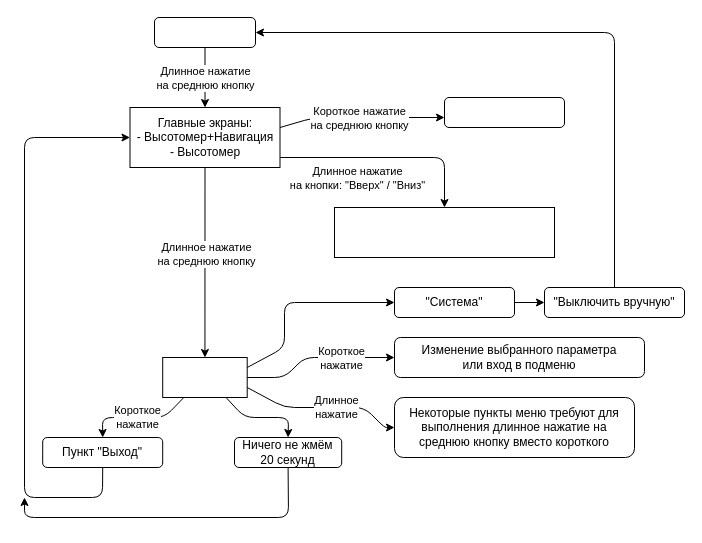
Image size: 702x543. Some labels were removed from this diagram. Each missing label, with the centre of its shape:
Выключено: pixel 205 32
Меню: pixel 204 377
Переключение между экранами: pixel 504 112
Функции, назначенные в меню: "Параметры" - "Функции кнопок": pixel 444 232
